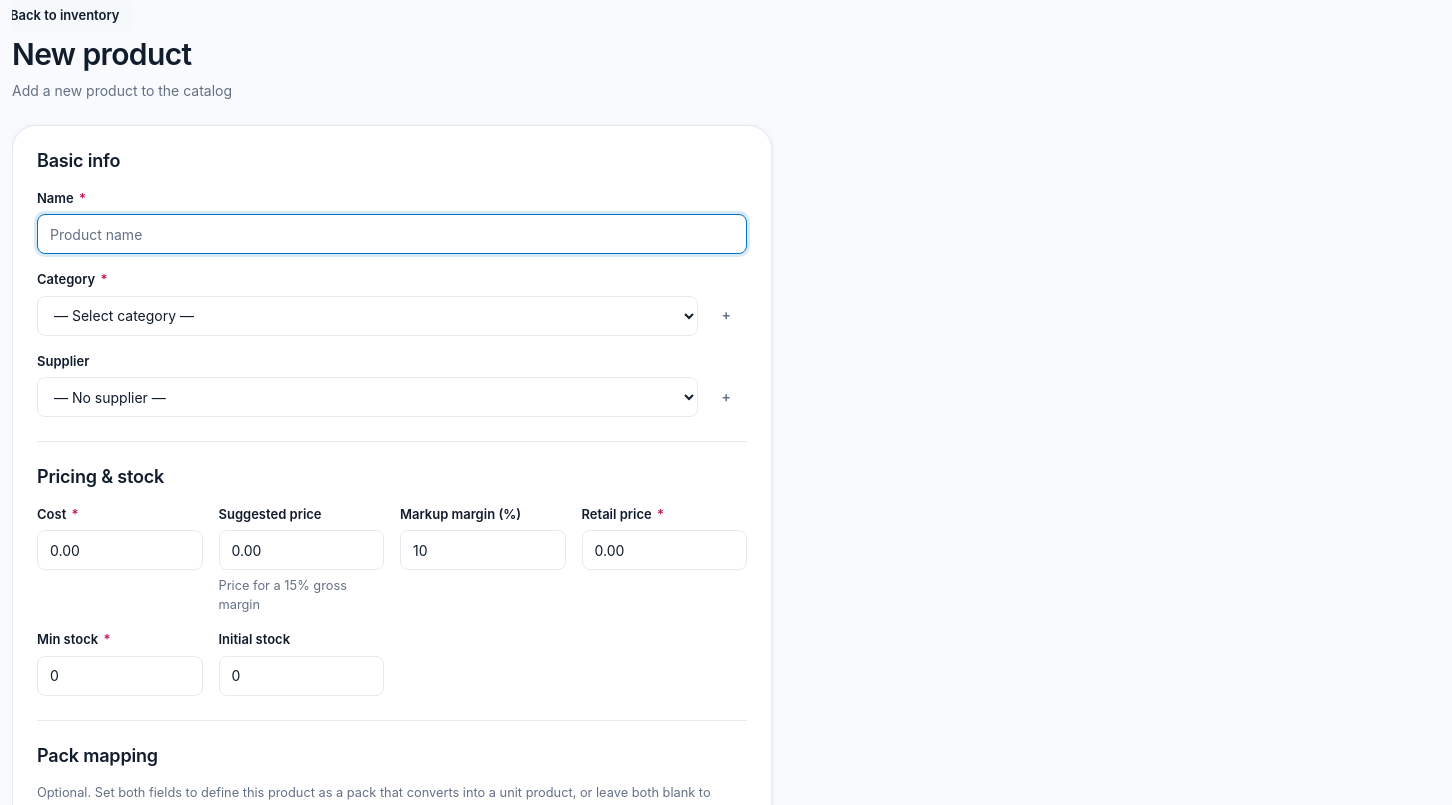
ProductPage pack mapping is optional on create › still rejects a half-set mapping (unit product without units per pack)
Expected: the heading "New product" is shown, [12,36,192,72]
Type "House Blend" into the field labelled "Name".
click(392, 234); type("House Blend")  # box [37,214,747,254]
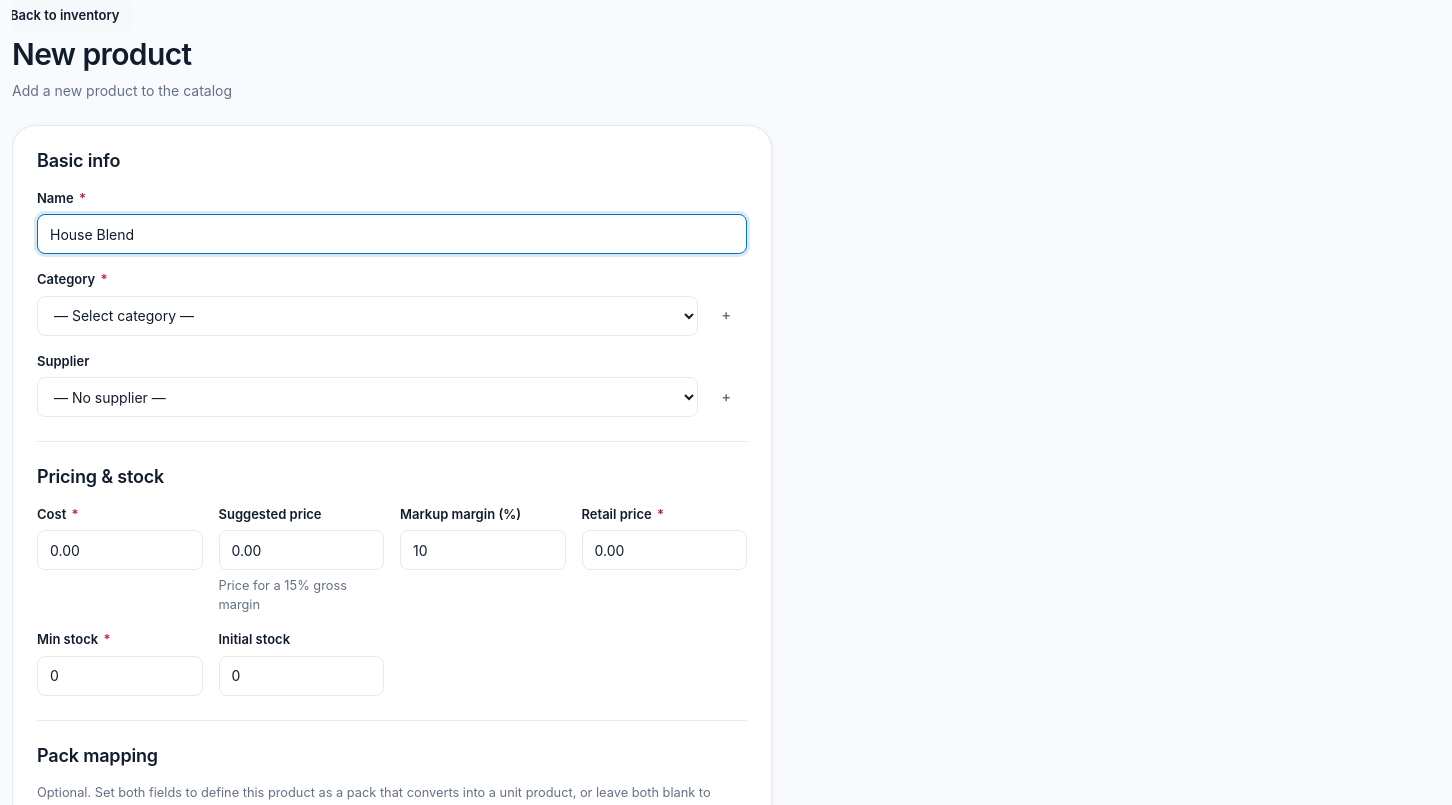
Select "Drinks" in the dropdown named "Category" at x=367, y=316, box [37,296,698,336]
(page scrolled)
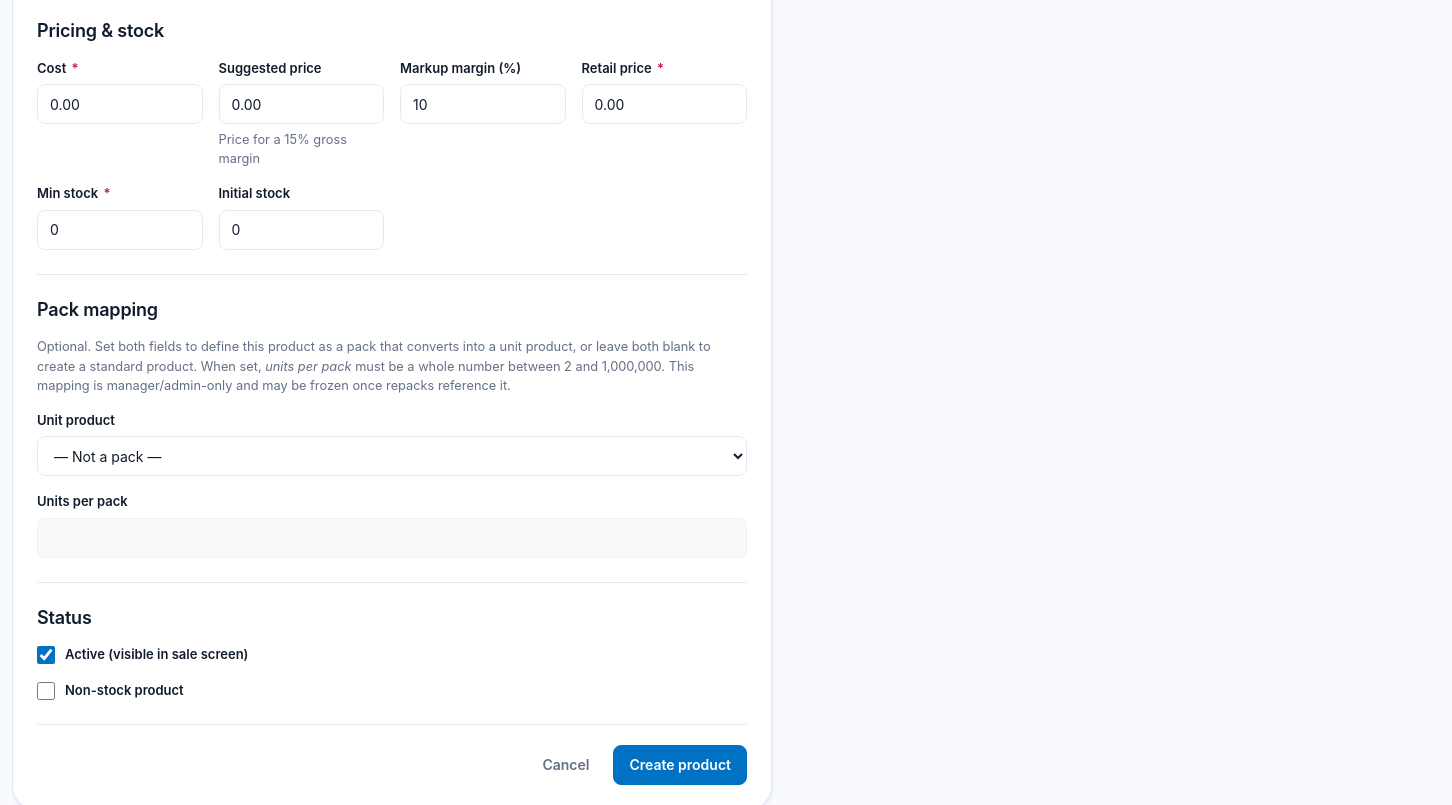
Select "UNIT-1 — Single bottle" in the dropdown labelled "Unit product" at x=392, y=456, box [37,436,747,476]
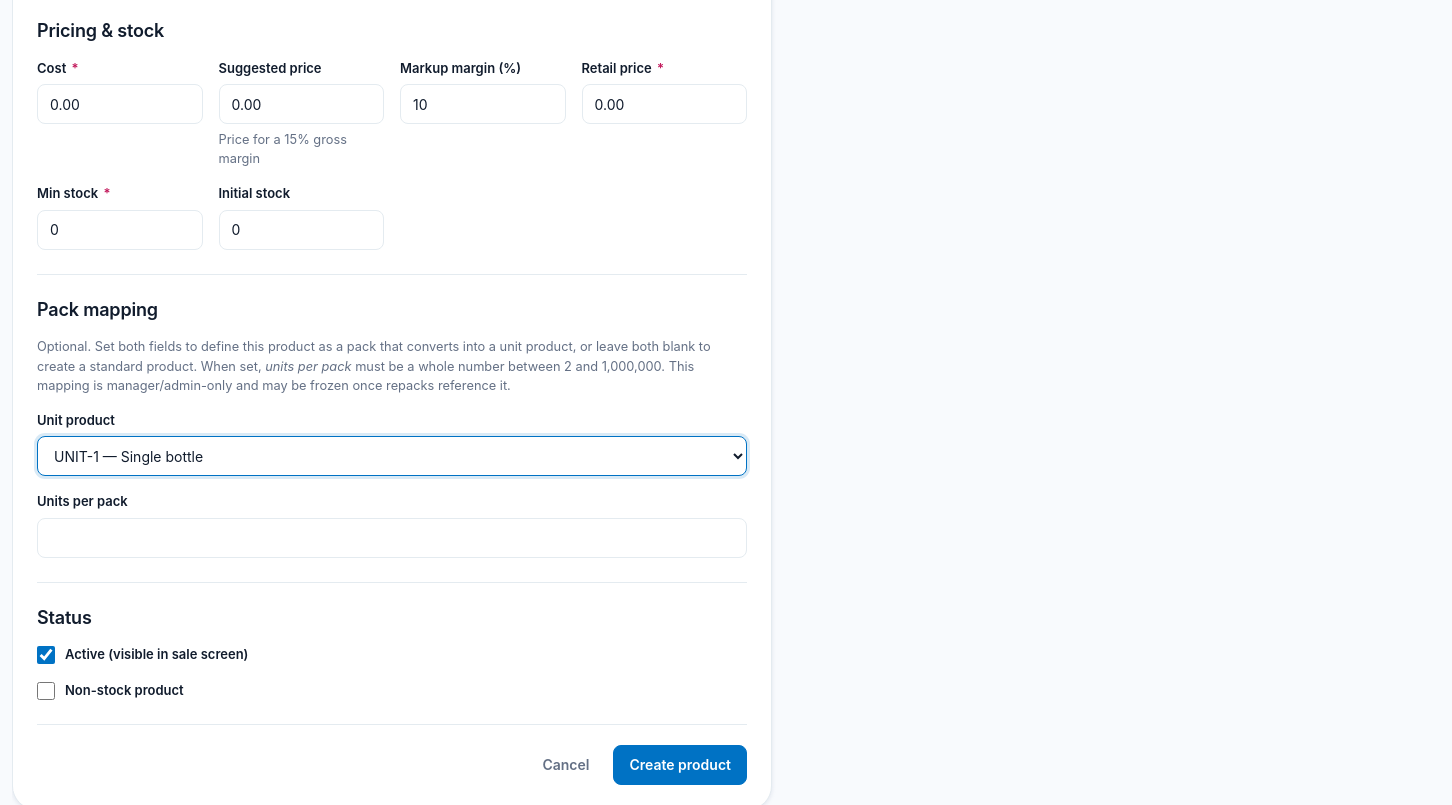
Click the button "Create product".
click(680, 765)  # box [613,745,747,785]
(page scrolled)
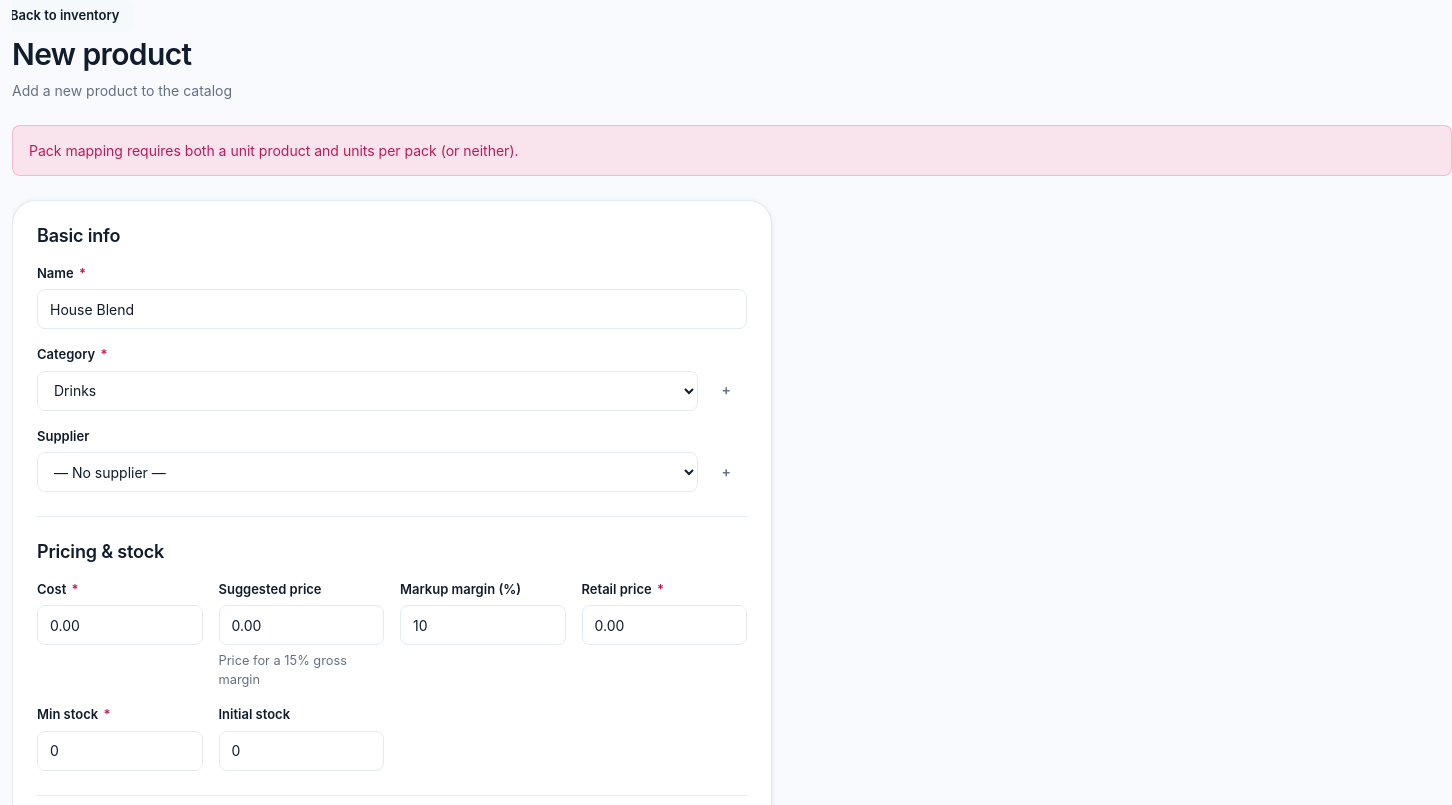
Now the message reads "Pack mapping requires both a unit product and units per pack (or neither).", box [29,142,518,159]
